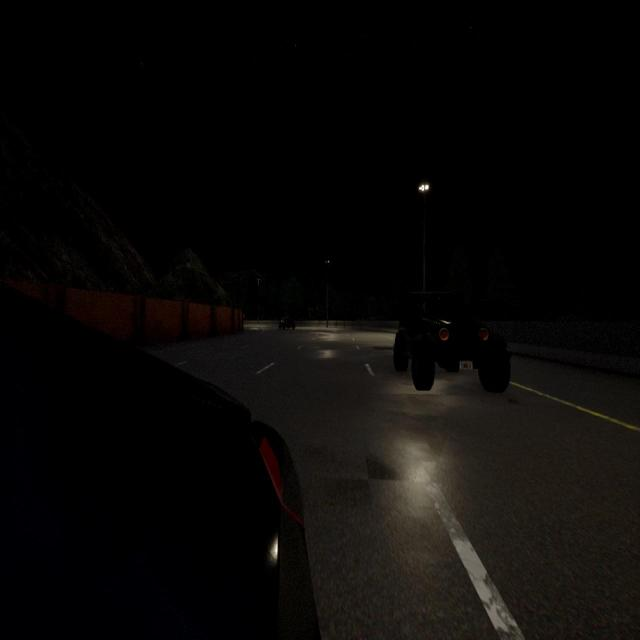Vehicle: (0, 285, 319, 640), (394, 291, 510, 392), (278, 317, 296, 331)
